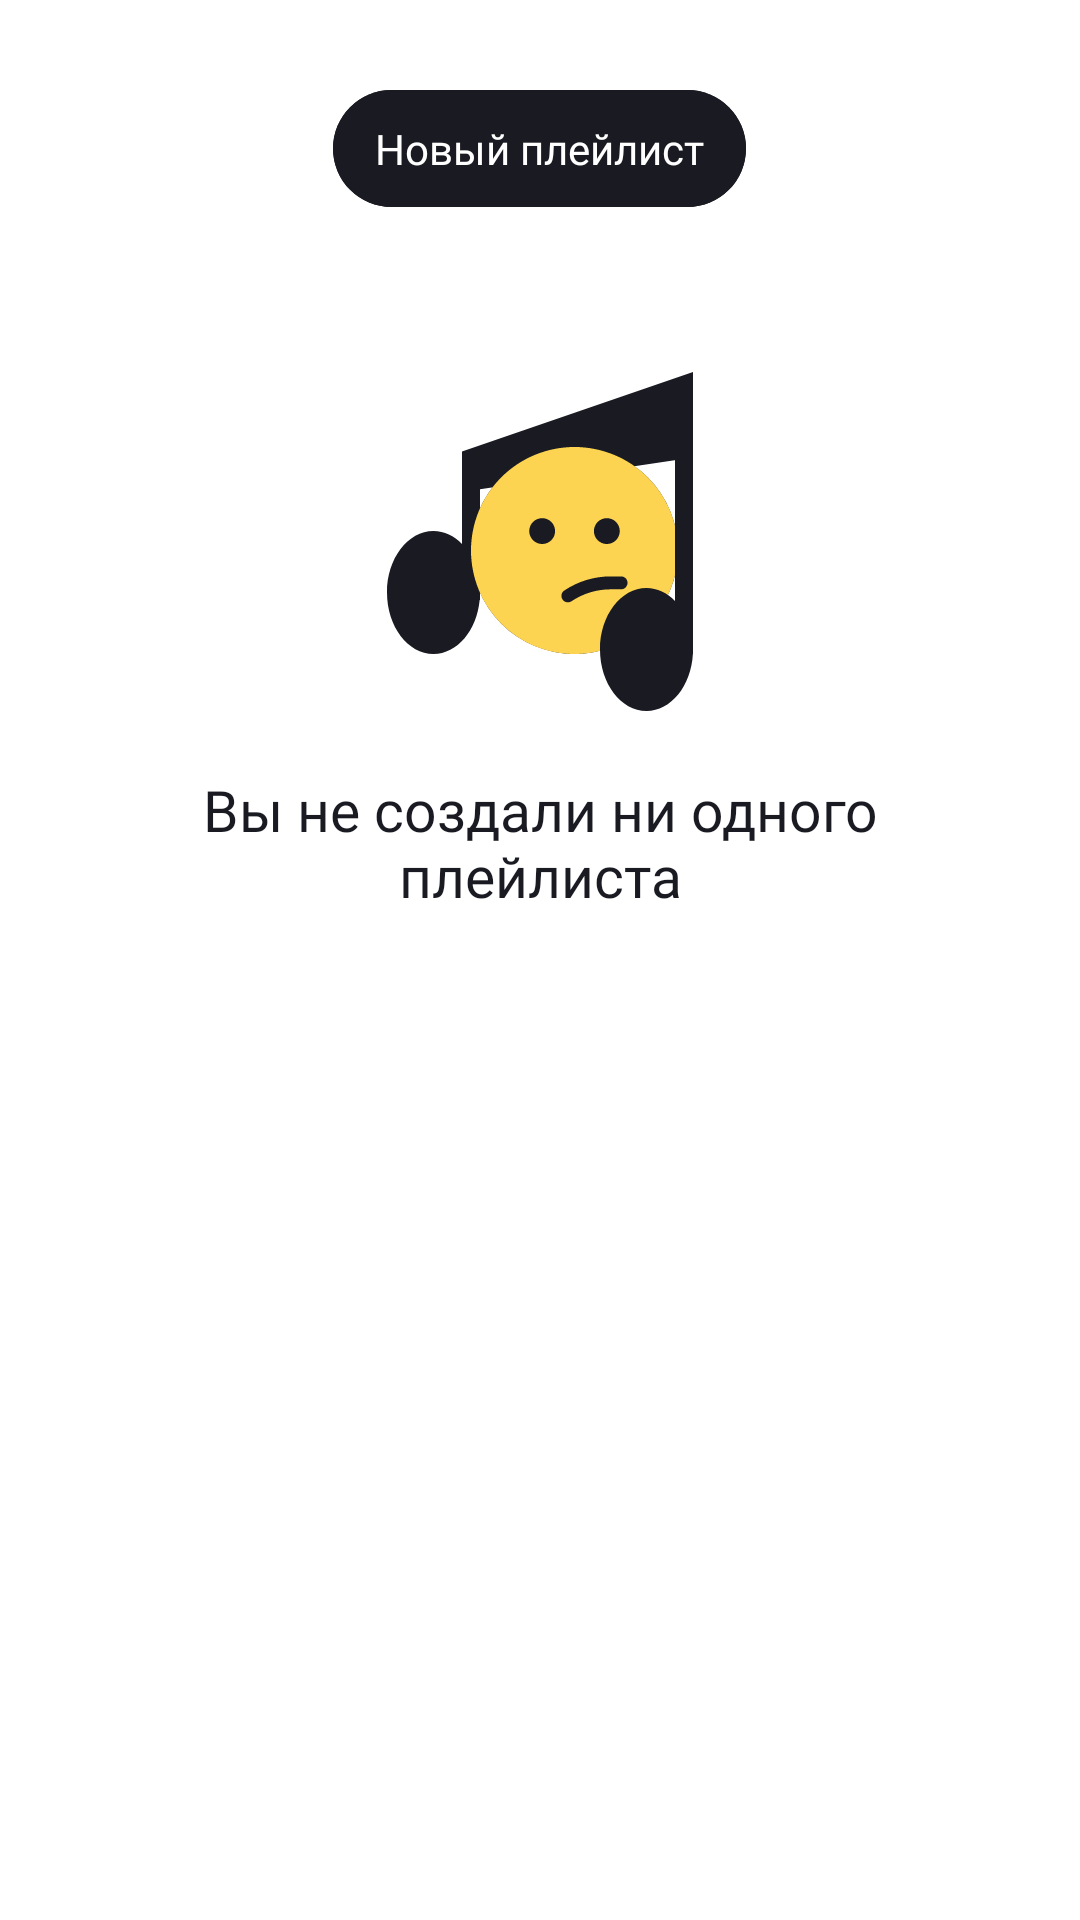

Icons on this 1080*1920 Android screen, each with the point to tap as point (x, y):
Ничего не нашлось: point (540, 541)
